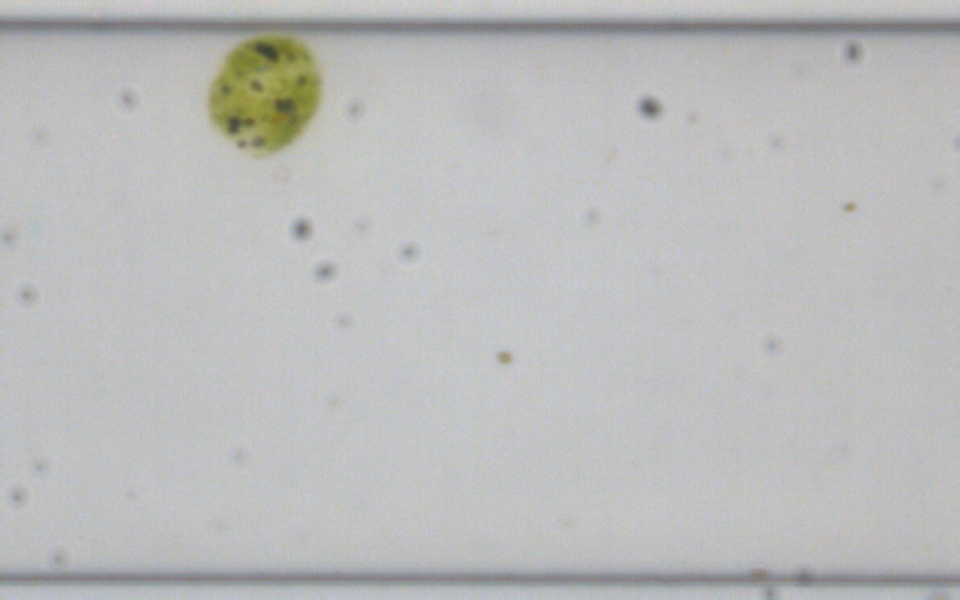Chlorella: (495, 349, 512, 364), (840, 198, 855, 213)
Haematococcus: (203, 35, 324, 159)
